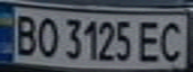1: (81, 17, 100, 61)
2: (97, 17, 118, 62)
3: (60, 15, 81, 61)
5: (115, 17, 139, 63)
B: (9, 11, 39, 57)
C: (154, 18, 190, 62)
E: (136, 18, 166, 63)
O: (33, 13, 60, 60)
